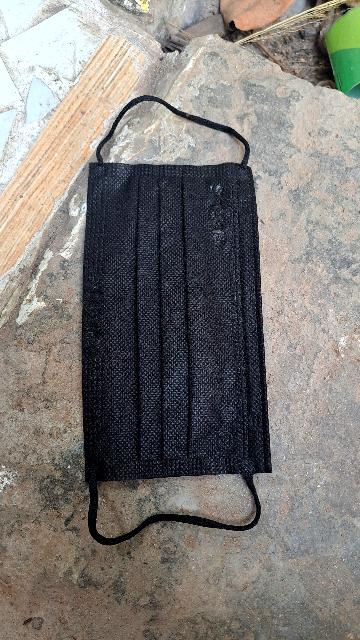mask: (83, 156, 271, 483)
